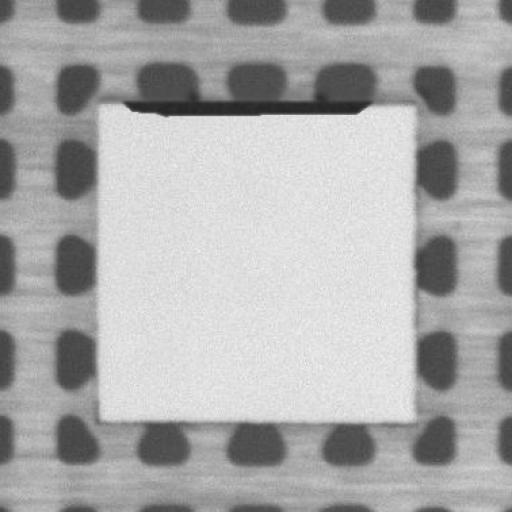DIE_BROKEN: (124, 92, 372, 117)
